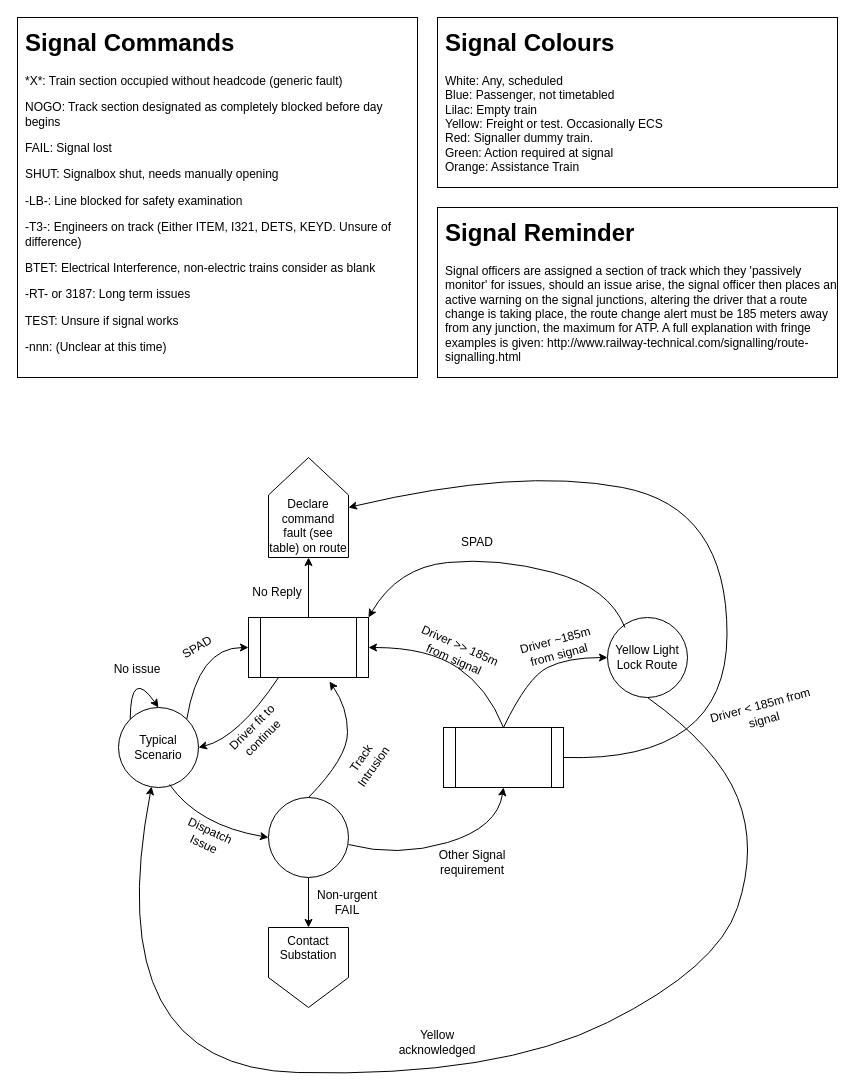
The diagram is 855 pixels wide and 1091 high, and some of its shapes have lost their labels. Here are the shapes that lost their labels. From the top down, the box of each, then its label:
(248, 616, 368, 678): Contact Driver
(442, 726, 564, 788): Input Specific Command
(268, 796, 348, 878): Dispatch Decision
